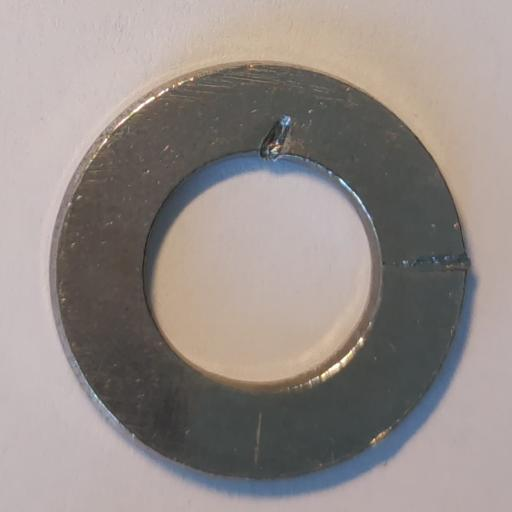scratch: (260, 113, 291, 160), (401, 252, 471, 270)
